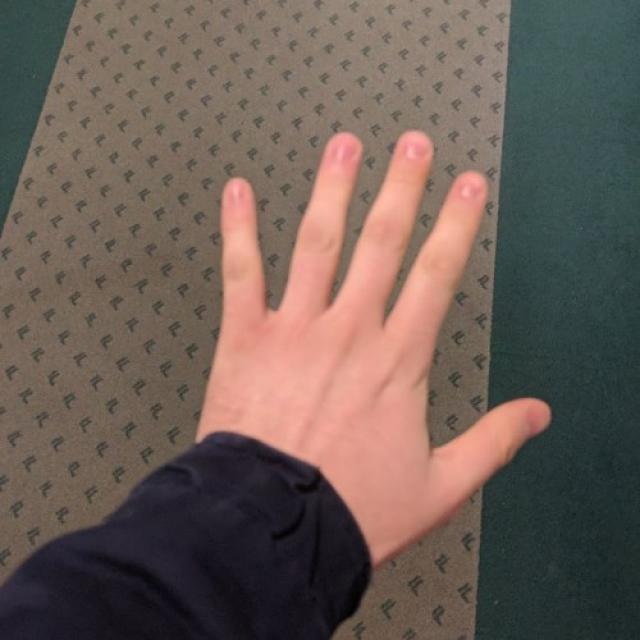paper: (222, 132, 552, 520)
